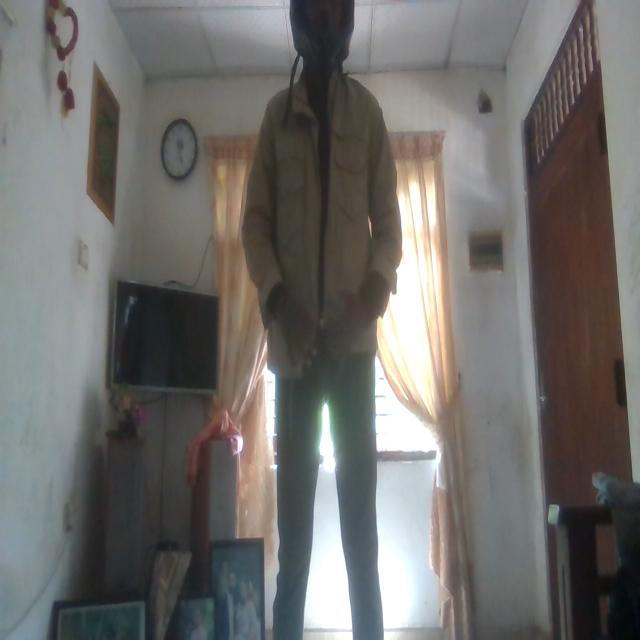Helmet_Wearer: (279, 0, 360, 68)
Jacket_Wearer: (243, 73, 397, 343)
Person: (242, 1, 400, 640)
